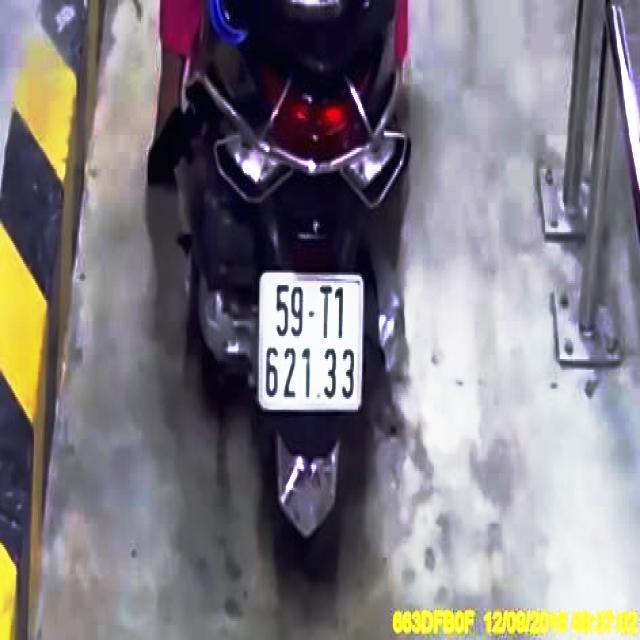license_plate: (259, 276, 366, 410)
